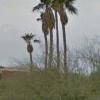Tree: (15, 0, 86, 58)
